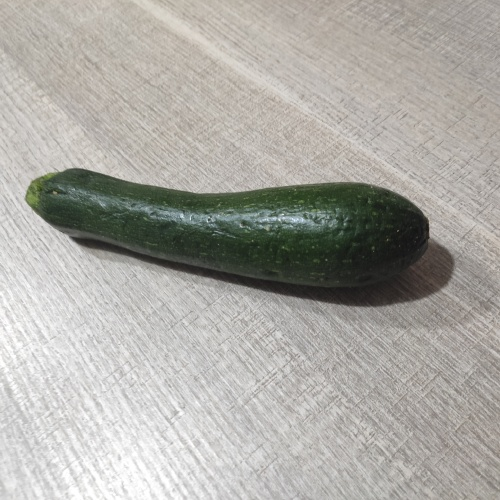zucchine: (17, 163, 436, 301)
